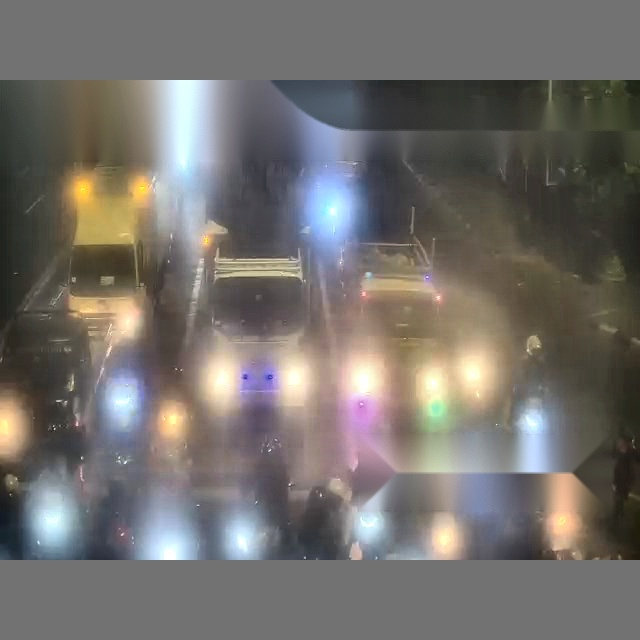Motor: (416, 348, 452, 429)
Truk: (65, 125, 172, 362)
